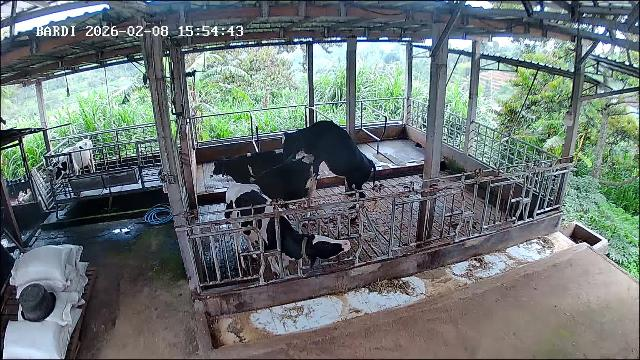mounting: (285, 120, 373, 218)
